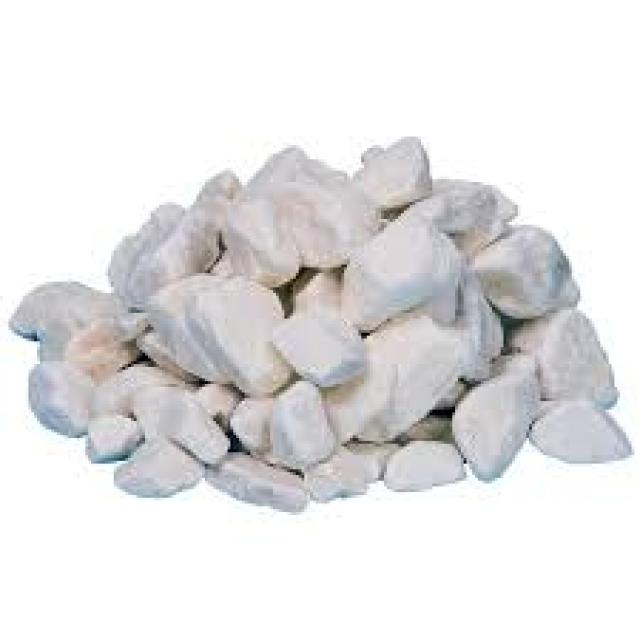Metamorphic: (3, 139, 634, 498)
